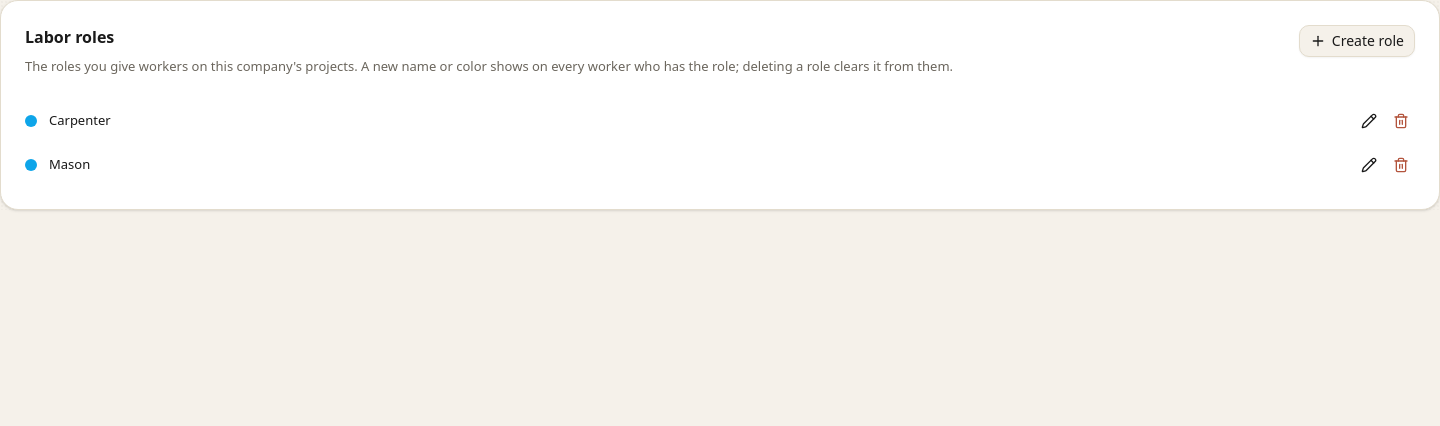
Test: CompanyLaborRolesCard › keeps the list in name order after a create and a rename
This screenshot has width=1440, height=426.
Expected: the text "Carpenter" is shown, [49,111,111,129]
Click the button "Create role" at (1357, 41), box [1299,25,1415,57]
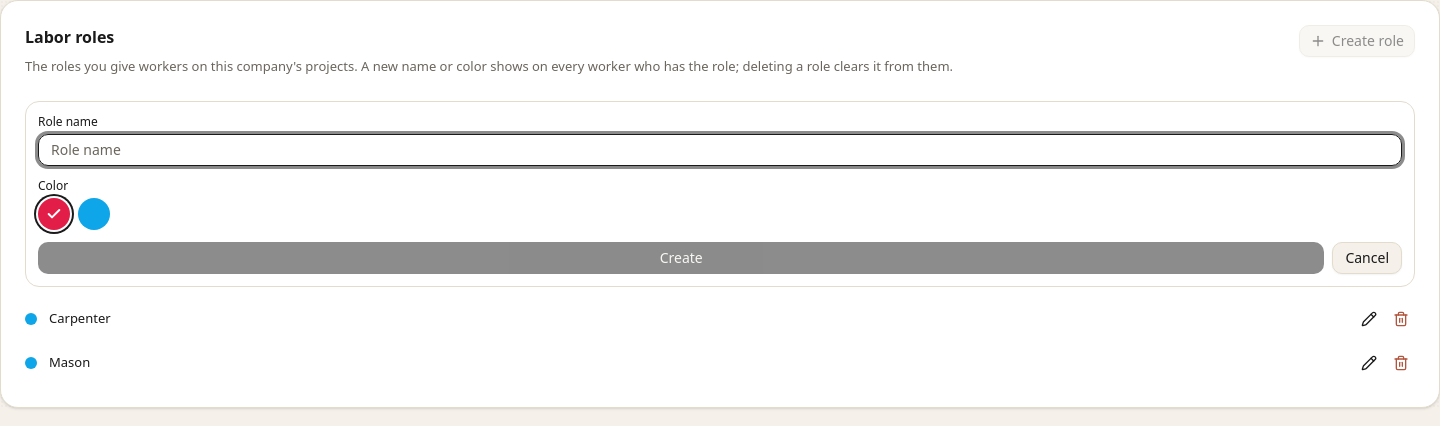
Type "Electrician" into the field labelled "Role name" at (720, 150), box [38,134,1402,166]
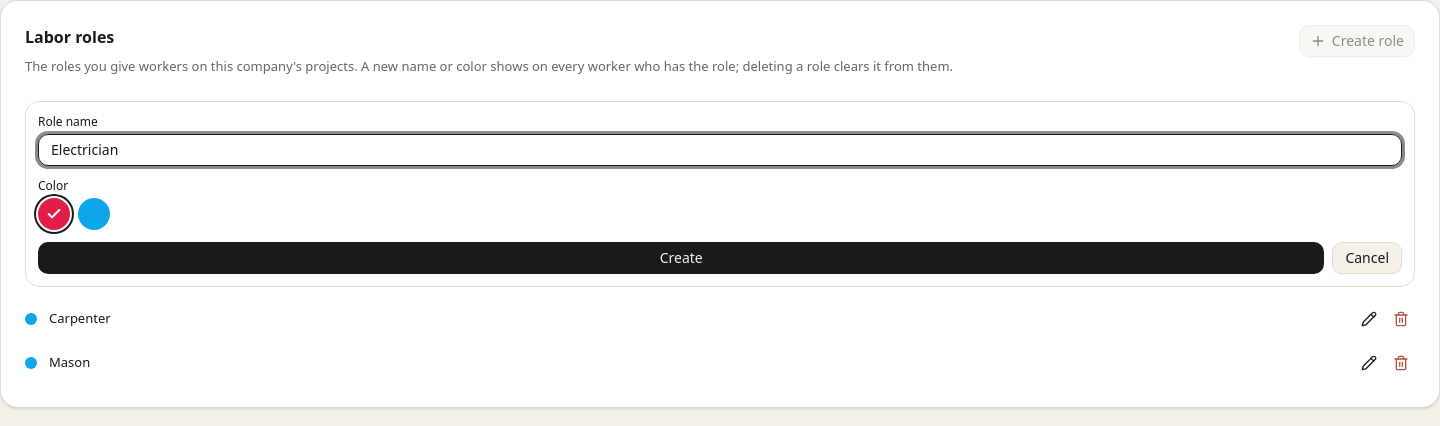
Click the button "Create" at (681, 258), box [38,242,1324,274]
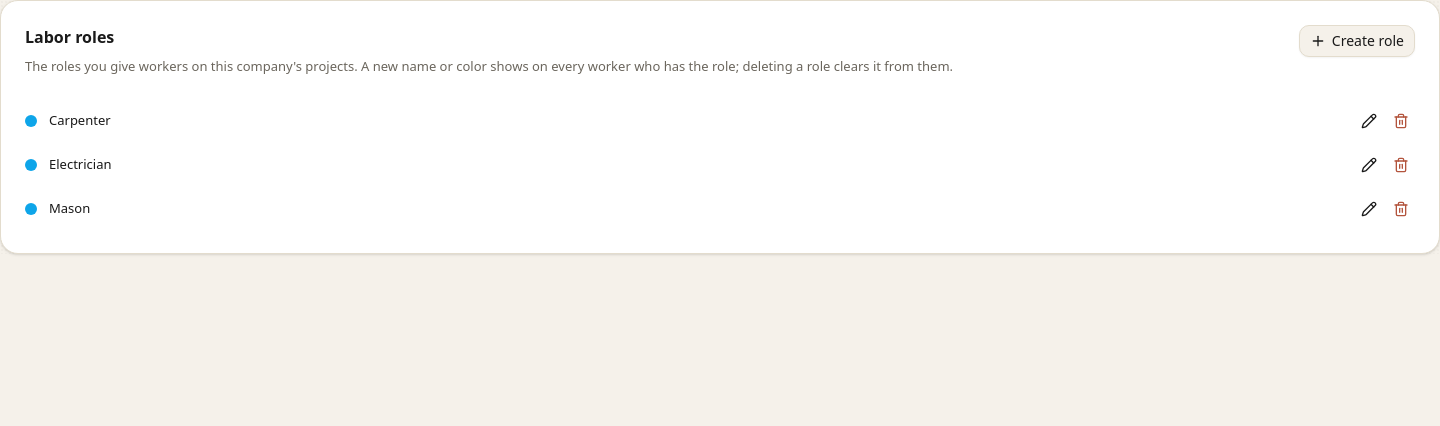
Result: the text "Electrician" is shown at [49,155,112,173]
Click the button named "Edit Carpenter" at (1369, 120), box [1355,106,1383,134]
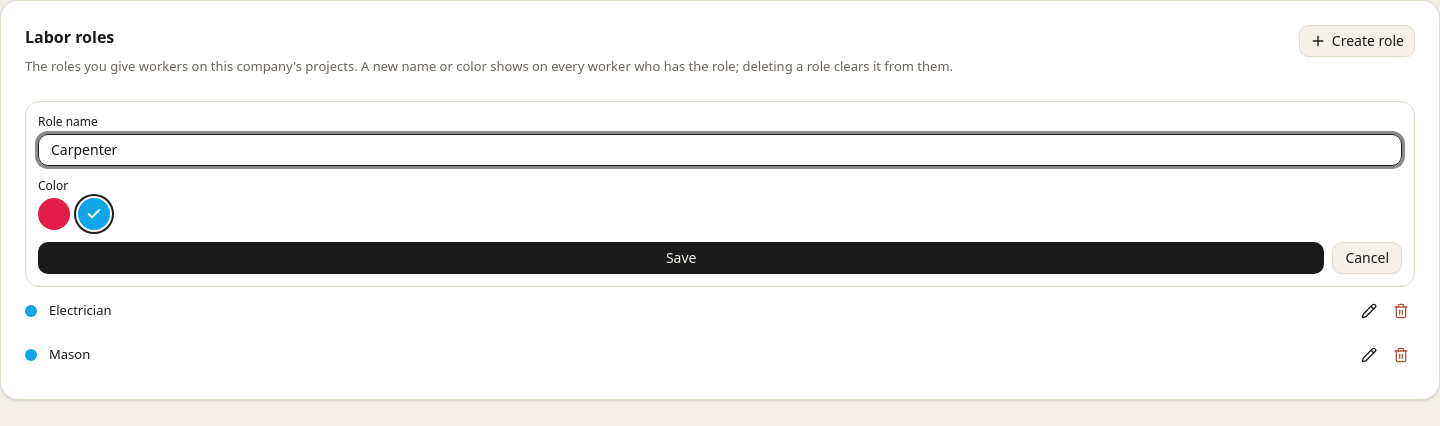
Replace the text in the field labelled "Role name" with "Tiler" at (720, 150), box [38,134,1402,166]
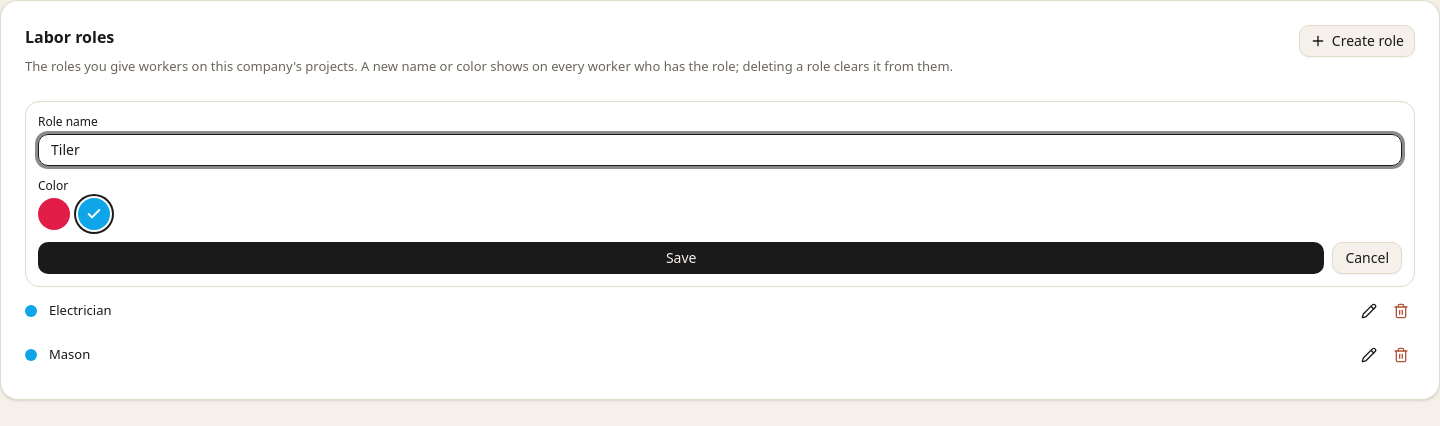
Click the button "Save" at (681, 258), box [38,242,1324,274]
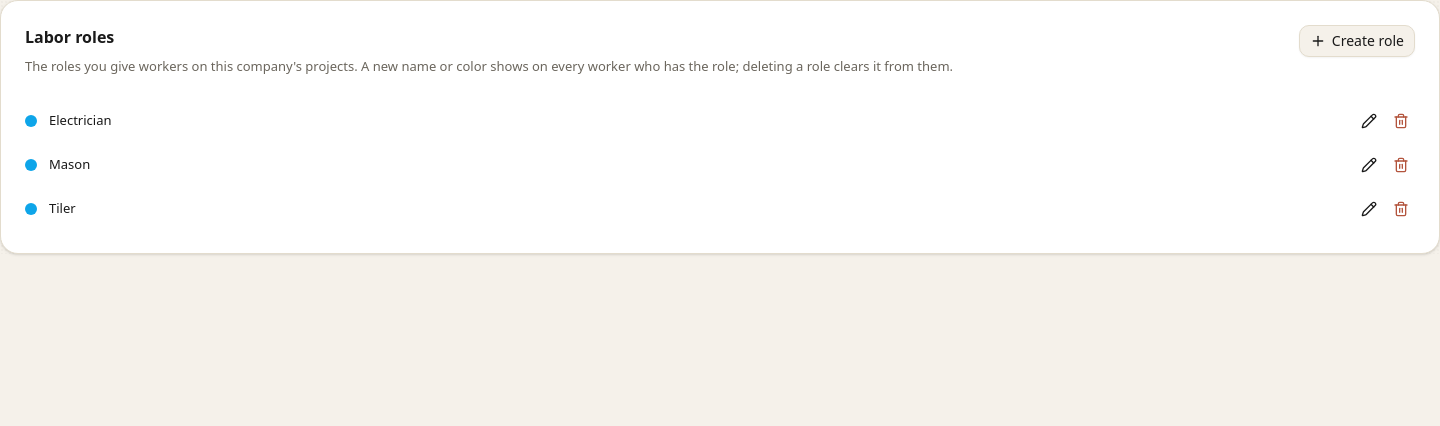
Result: the text "Tiler" is shown at [49,199,76,217]
